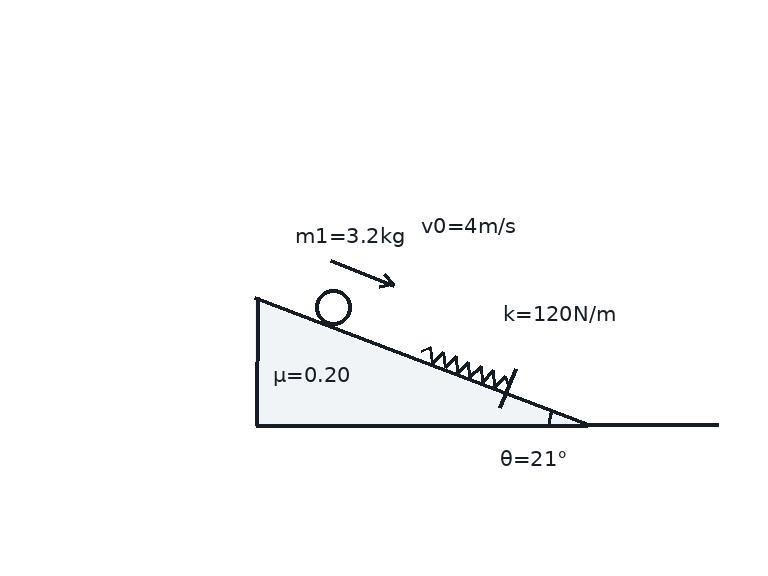ball: (313, 287, 353, 327)
ramp: (254, 295, 591, 427)
spring: (420, 345, 511, 388)
